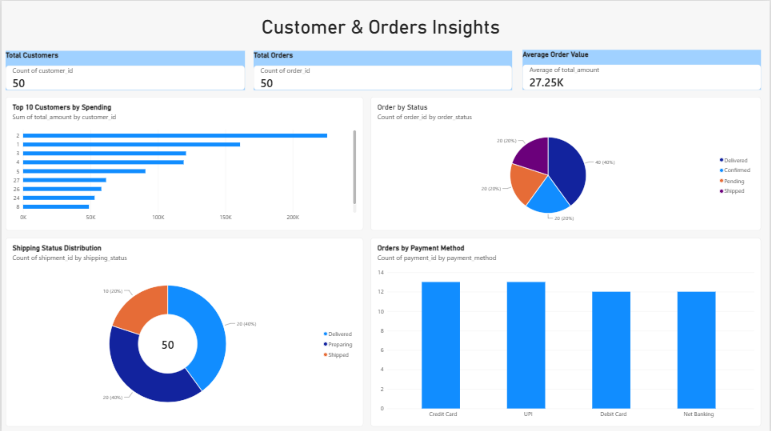

This screenshot's page, from the dashboard's own definition file:
{"tool":"powerbi","page":{"name":"Customer & Order Analysis","canvas":[1920,1080],"ordinal":2},"visuals":[{"type":"cardVisual","title":"Total Customers","fields":{"Data":["CountNonNull(ecommerce_analytics customers.customer_id)"]},"box":[10,124,598,98],"z":0},{"type":"cardVisual","title":"Total Orders","fields":{"Data":["Count(ecommerce_analytics order_items.order_id)"]},"box":[630,124,646,98],"z":1},{"type":"cardVisual","title":"Average Order Value","fields":{"Data":["Avg(ecommerce_analytics orders.total_amount)"]},"box":[1302,122,596,100],"z":2},{"type":"clusteredBarChart","title":"Top 10 Customers by Spending","fields":{"Category":["ecommerce_analytics customers.customer_id"],"Y":["Sum(ecommerce_analytics orders.total_amount)"]},"box":[10,240,894,334],"z":4},{"type":"clusteredColumnChart","title":"Orders by Payment Method","fields":{"Category":["ecommerce_analytics payments.payment_method"],"Y":["Count(ecommerce_analytics payments.payment_id)"]},"box":[922,592,976,472],"z":5},{"type":"donutChart","title":"Shipping Status Distribution","fields":{"Category":["ecommerce_analytics shipping.shipping_status"],"Y":["CountNonNull(ecommerce_analytics shipping.shipment_id)"]},"box":[10,592,894,472],"z":6},{"type":"textbox","box":[650,38,962,56],"z":7},{"type":"pieChart","title":"Order by Status","fields":{"Category":["ecommerce_analytics orders.order_status"],"Y":["CountNonNull(ecommerce_analytics order_items.order_id)"]},"box":[922,240,976,334],"z":8}]}

Visuals, with their boxes in screenshot pixels (x1, y1, x2, y2), scaled from the page's 1920x1080 canvas onto the 771x431 screenshot:
"Total Customers" cardVisual: region(4, 49, 244, 89)
"Total Orders" cardVisual: region(253, 49, 512, 89)
"Average Order Value" cardVisual: region(523, 49, 762, 89)
"Top 10 Customers by Spending" clusteredBarChart: region(4, 96, 363, 229)
"Orders by Payment Method" clusteredColumnChart: region(370, 236, 762, 425)
"Shipping Status Distribution" donutChart: region(4, 236, 363, 425)
textbox: region(261, 15, 647, 38)
"Order by Status" pieChart: region(370, 96, 762, 229)
